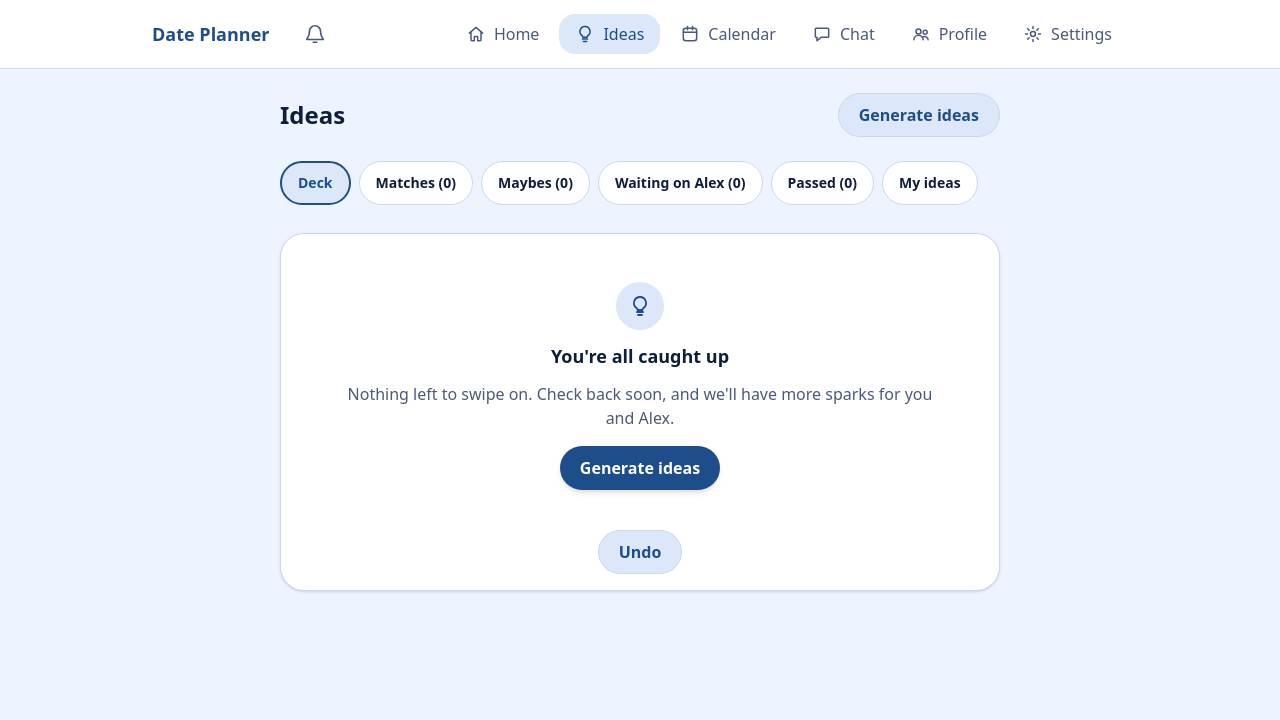
Test: GenerateIdeasSheet › blocks a count of "" with a hint
This screenshot has width=1280, height=720.
Click the 1st button "Generate ideas". click: click(919, 115)
box: [838,93,1000,137]
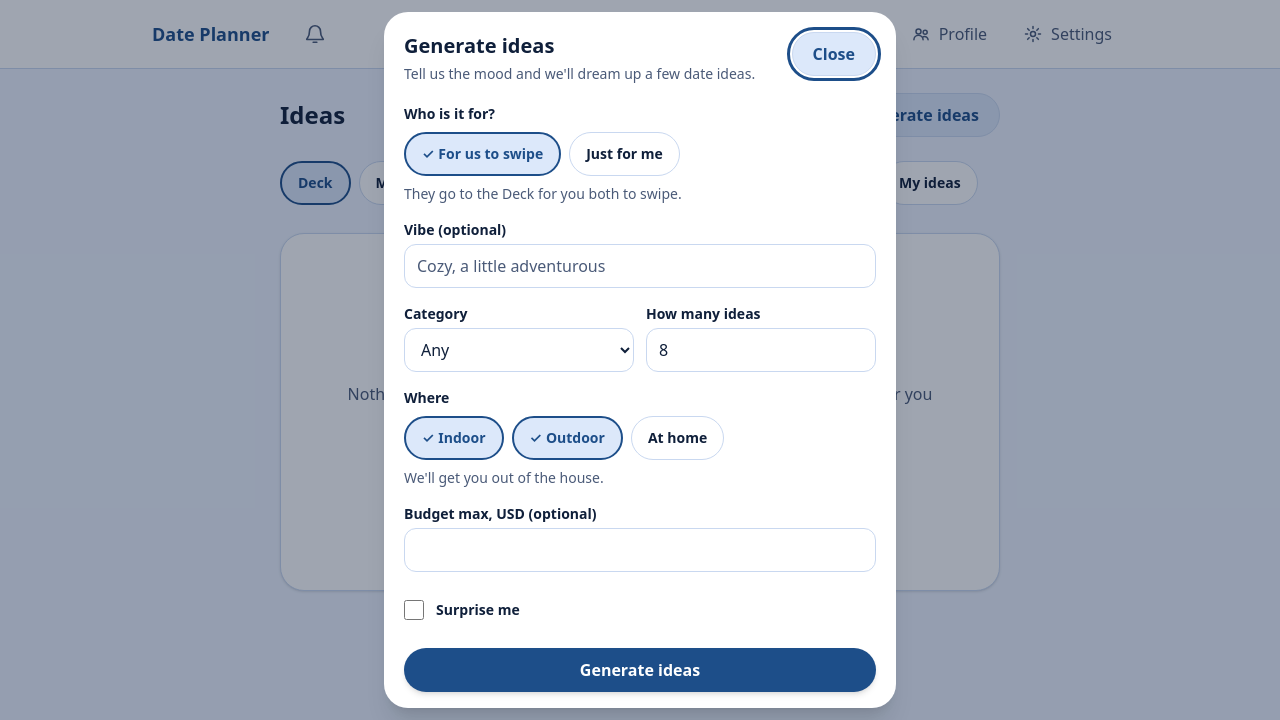
Clear the number field labelled "How many ideas". click: (761, 350)
box: [646,328,876,372]
(page scrolled)
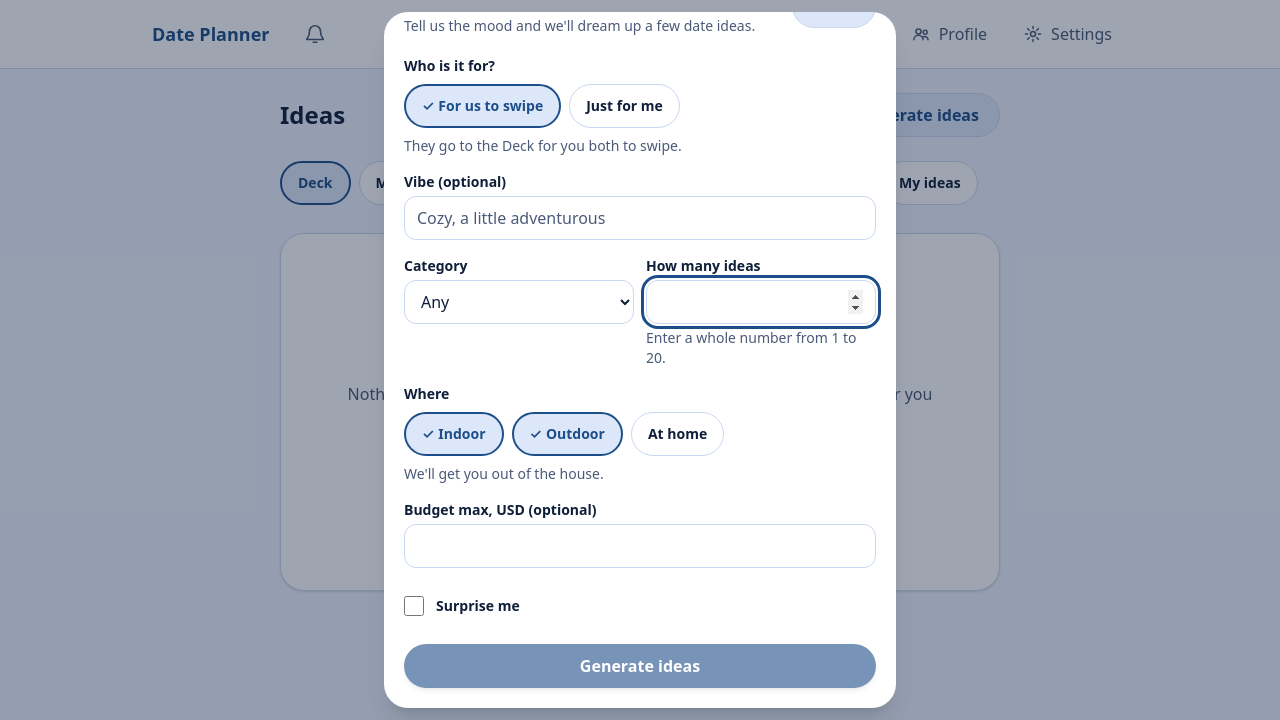
Now the text "Enter a whole number from 1 to 20." is shown, box [646,328,876,368]
Now the button "Generate ideas" is disabled, box [404,644,876,688]
